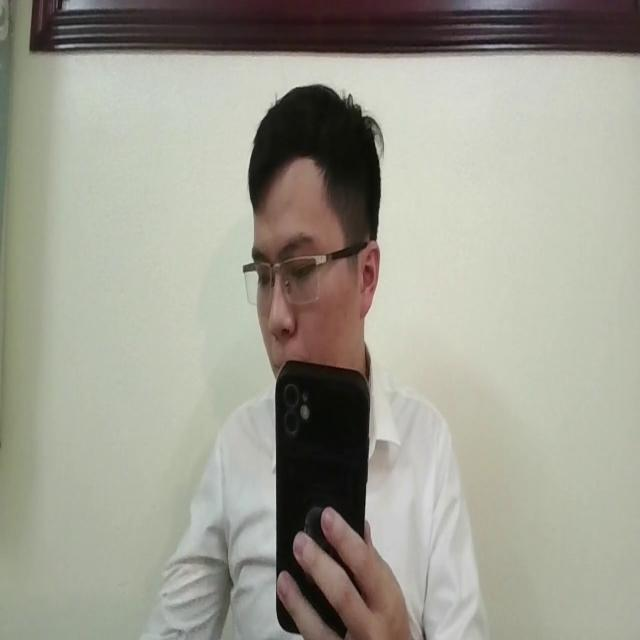phone: (273, 358, 371, 622)
student: (140, 77, 488, 640)
